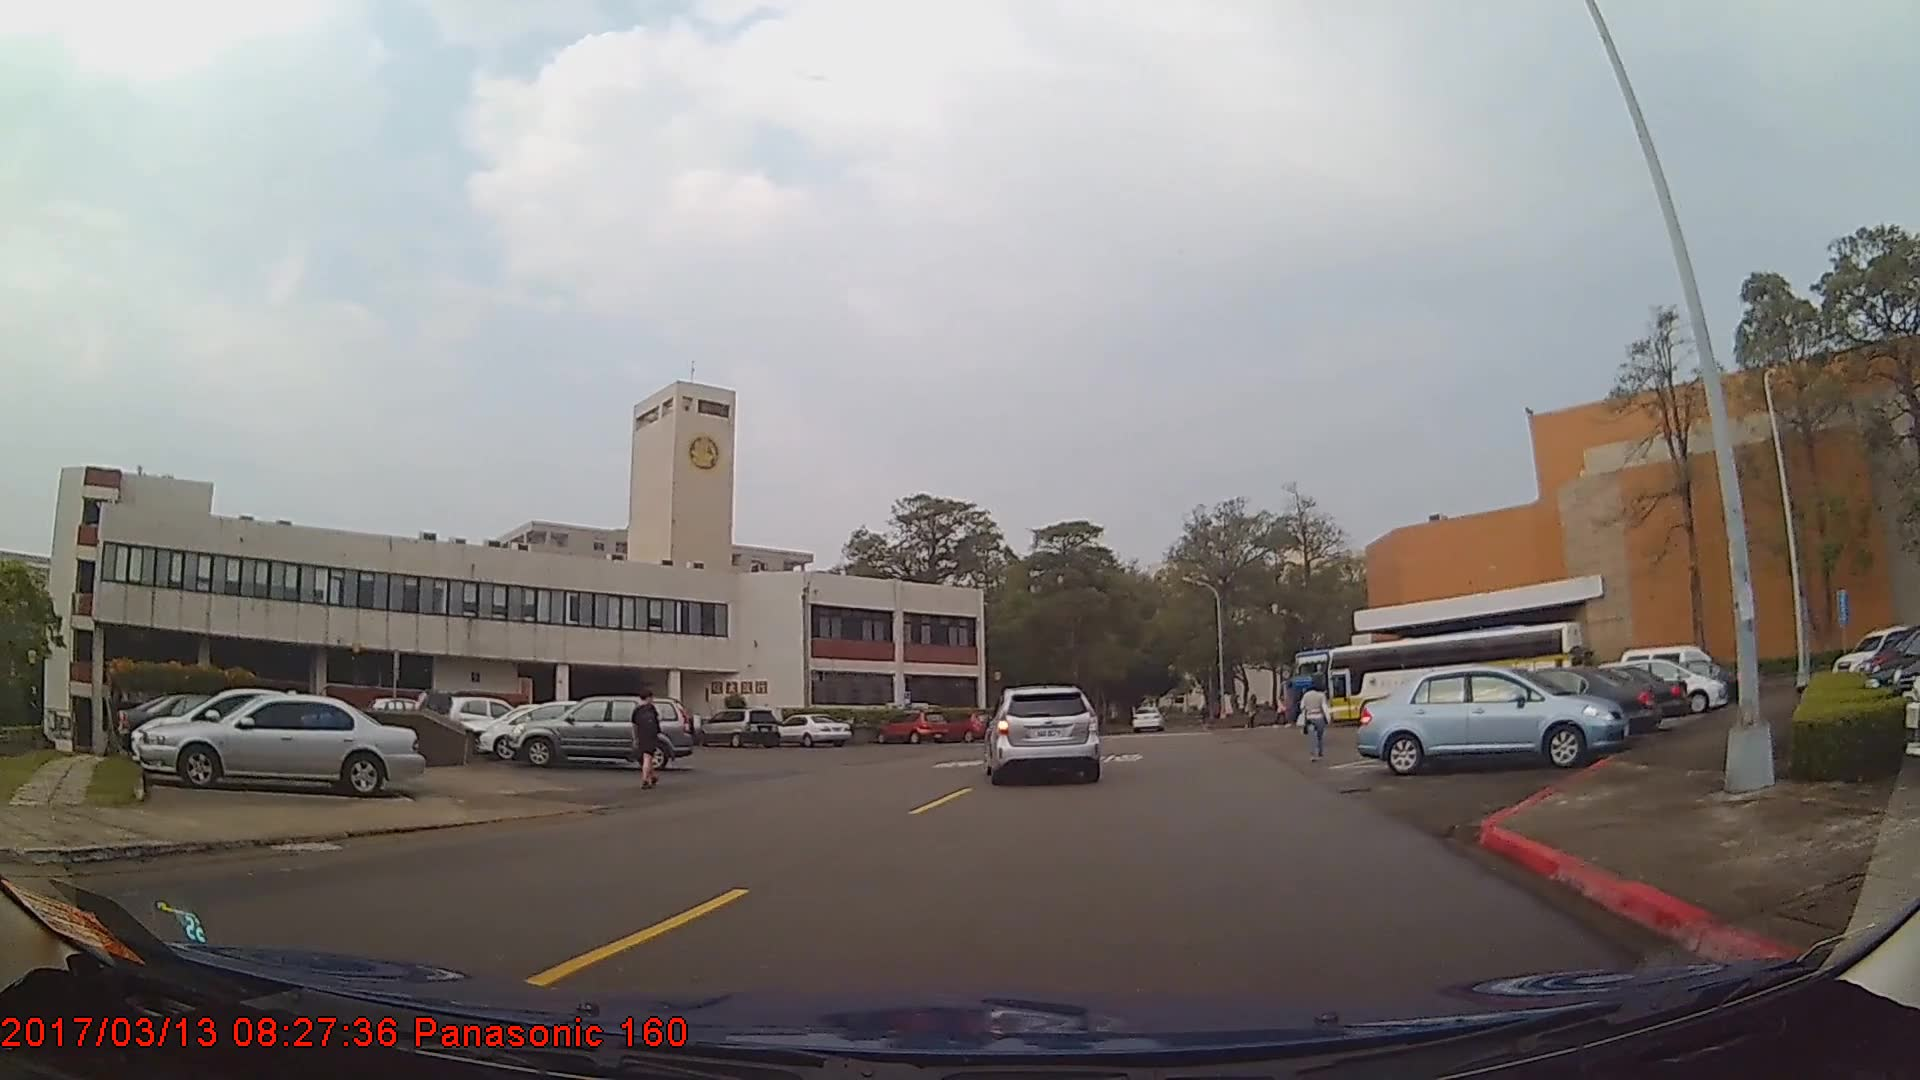pedestrian: (632, 691, 664, 792), (1295, 678, 1329, 767)
vehicle: (137, 690, 425, 795), (1357, 663, 1630, 774), (1325, 621, 1584, 729), (1431, 669, 1662, 743), (505, 693, 699, 769), (115, 693, 322, 761), (1506, 666, 1691, 731), (984, 683, 1099, 784), (478, 698, 630, 759), (445, 694, 532, 747), (694, 706, 781, 748), (772, 711, 853, 745), (875, 710, 948, 746), (1130, 709, 1163, 738)
